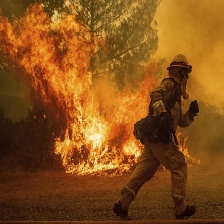fire: (3, 12, 143, 169)
smoke: (159, 3, 224, 104)
